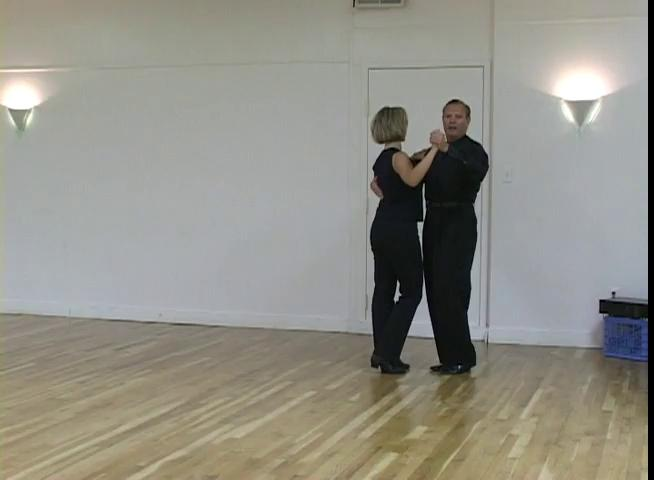victim: (363, 105, 443, 378), (419, 98, 491, 378)
